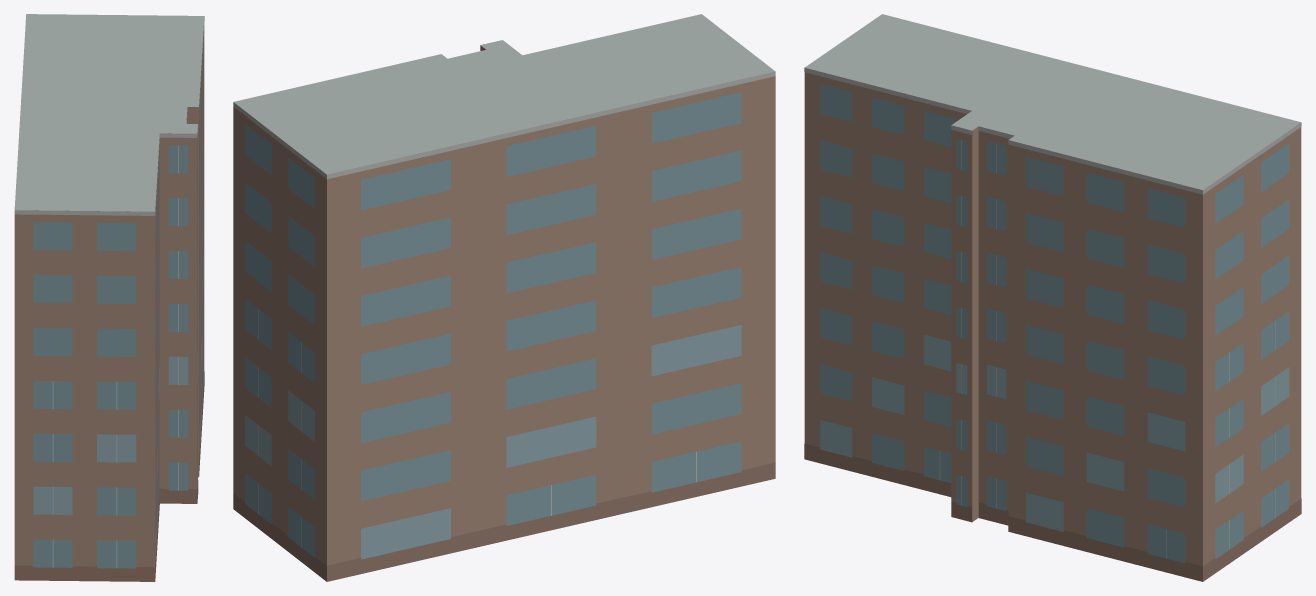
The model's file is survey-upis-32666184.glb.
3 renders of one model, left to right at view 1: azimuth 30°, elevation 25°; view 2: azimuth 150°, elevation 25°; view 3: azimuth 270°, elevation 25°, orthographic. The views are drawn at different scales.
Visible parts, largest first — view 1: survey-upis-32666184.tmp; view 2: survey-upis-32666184.tmp; view 3: survey-upis-32666184.tmp.
Part boxes in pixels (x1,y1,x2,y2): survey-upis-32666184.tmp: (14, 14, 204, 581); survey-upis-32666184.tmp: (233, 14, 775, 581); survey-upis-32666184.tmp: (804, 14, 1301, 581).
Size of the model in its own units: 20.61 by 21.35 by 24.56.
